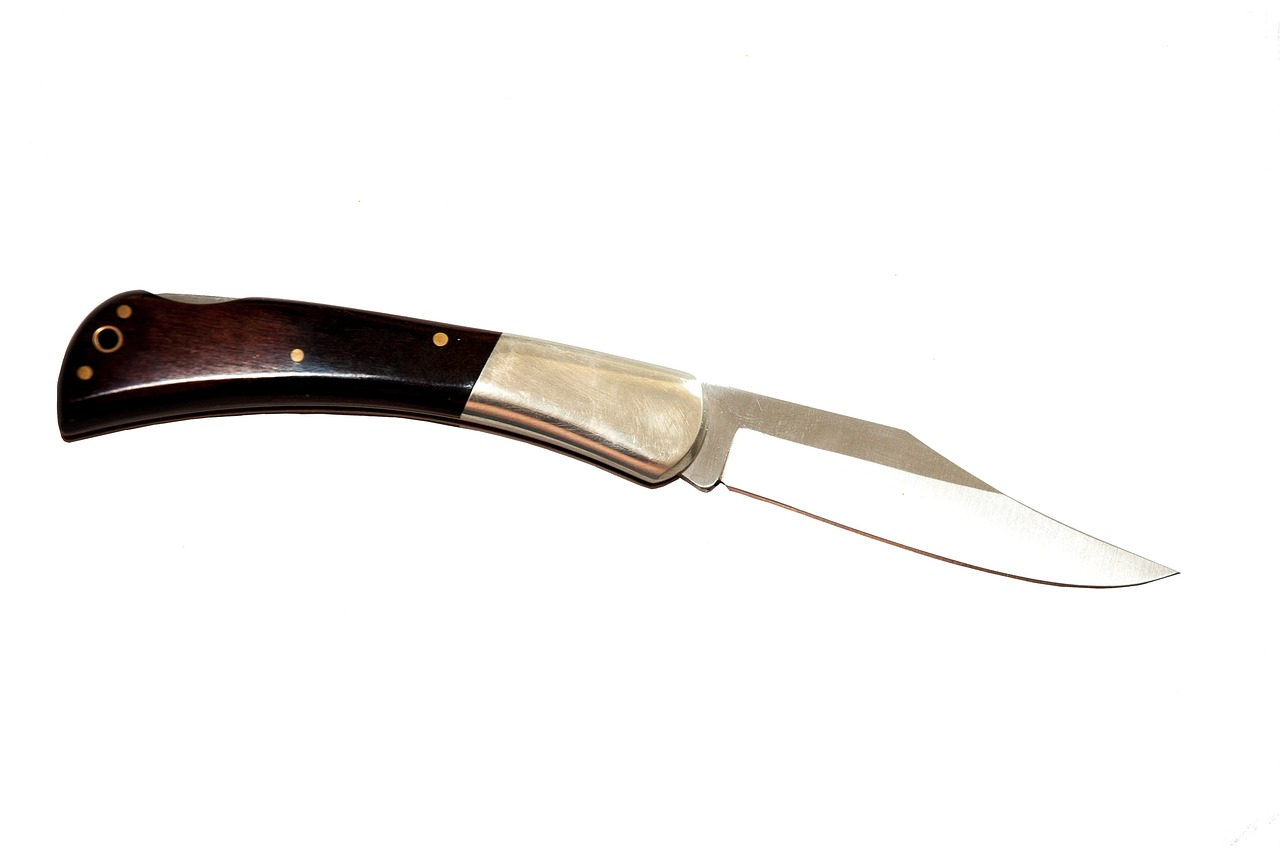knife: (45, 274, 1181, 609)
